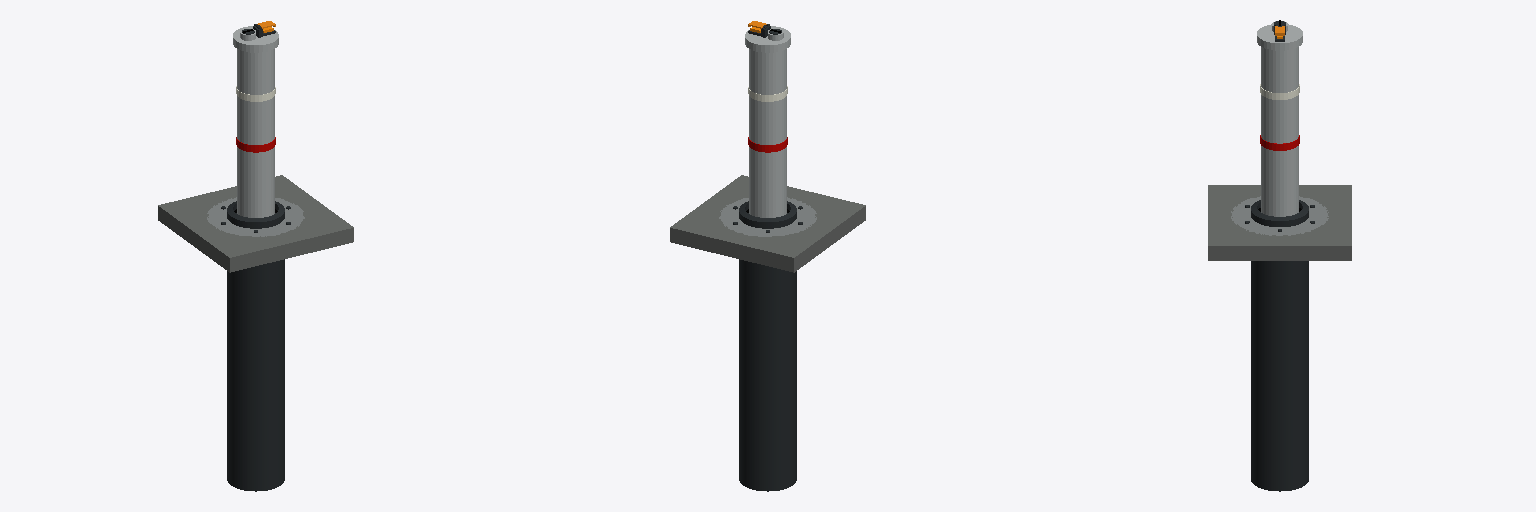
The robot description file, URDF, robot "flush_mount_bollard":
<robot name="flush_mount_bollard">
  <material name="brushed_steel">
    <color rgba="0.7 0.72 0.72 1" />
    </material>
  <material name="dark_steel">
    <color rgba="0.2 0.22 0.23 1" />
    </material>
  <material name="galvanized">
    <color rgba="0.54 0.56 0.56 1" />
    </material>
  <material name="concrete">
    <color rgba="0.45 0.46 0.45 1" />
    </material>
  <material name="rubber">
    <color rgba="0.035 0.035 0.035 1" />
    </material>
  <material name="red_reflector">
    <color rgba="0.8 0.06 0.04 1" />
    </material>
  <material name="white_reflector">
    <color rgba="0.92 0.92 0.86 1" />
    </material>
  <material name="amber_lens">
    <color rgba="1 0.58 0.08 0.72" />
    </material>
  <material name="smoked_amber_cover">
    <color rgba="0.96 0.56 0.12 0.38" />
    </material>
  <material name="black_keyway">
    <color rgba="0.02 0.02 0.018 1" />
    </material>
  <link name="sleeve">
    <inertial>
      <origin xyz="0 0 -0.62" rpy="0 0 0" />
      <mass value="80" />
      <inertia ixx="13.8293" ixy="0" ixz="0" iyy="13.8293" iyz="0" izz="5.12533" />
      </inertial>
    <visual name="pavement_cutaway">
      <geometry>
        <mesh filename="assets/meshes/pavement_cutaway.obj" />
        </geometry>
      <material name="concrete">
        <color rgba="0.45 0.46 0.45 1" />
        </material>
      </visual>
    <visual name="flush_flange">
      <geometry>
        <mesh filename="assets/meshes/flush_flange.obj" />
        </geometry>
      <material name="galvanized">
        <color rgba="0.54 0.56 0.56 1" />
        </material>
      </visual>
    <visual name="sleeve_tube">
      <geometry>
        <mesh filename="assets/meshes/sleeve_tube.obj" />
        </geometry>
      <material name="dark_steel">
        <color rgba="0.2 0.22 0.23 1" />
        </material>
      </visual>
    <visual name="rubber_wiper">
      <geometry>
        <mesh filename="assets/meshes/rubber_wiper.obj" />
        </geometry>
      <material name="rubber">
        <color rgba="0.035 0.035 0.035 1" />
        </material>
      </visual>
    <visual name="flange_bolt_0">
      <origin xyz="0.162 0 0.0035" rpy="0 0 0" />
      <geometry>
        <cylinder radius="0.01" length="0.007" />
        </geometry>
      <material name="dark_steel">
        <color rgba="0.2 0.22 0.23 1" />
        </material>
      </visual>
    <visual name="flange_bolt_1">
      <origin xyz="0.081 0.140296 0.0035" rpy="0 0 0" />
      <geometry>
        <cylinder radius="0.01" length="0.007" />
        </geometry>
      <material name="dark_steel">
        <color rgba="0.2 0.22 0.23 1" />
        </material>
      </visual>
    <visual name="flange_bolt_2">
      <origin xyz="-0.081 0.140296 0.0035" rpy="0 0 0" />
      <geometry>
        <cylinder radius="0.01" length="0.007" />
        </geometry>
      <material name="dark_steel">
        <color rgba="0.2 0.22 0.23 1" />
        </material>
      </visual>
    <visual name="flange_bolt_3">
      <origin xyz="-0.162 1.98393e-17 0.0035" rpy="0 0 0" />
      <geometry>
        <cylinder radius="0.01" length="0.007" />
        </geometry>
      <material name="dark_steel">
        <color rgba="0.2 0.22 0.23 1" />
        </material>
      </visual>
    <visual name="flange_bolt_4">
      <origin xyz="-0.081 -0.140296 0.0035" rpy="0 0 0" />
      <geometry>
        <cylinder radius="0.01" length="0.007" />
        </geometry>
      <material name="dark_steel">
        <color rgba="0.2 0.22 0.23 1" />
        </material>
      </visual>
    <visual name="flange_bolt_5">
      <origin xyz="0.081 -0.140296 0.0035" rpy="0 0 0" />
      <geometry>
        <cylinder radius="0.01" length="0.007" />
        </geometry>
      <material name="dark_steel">
        <color rgba="0.2 0.22 0.23 1" />
        </material>
      </visual>
    <collision name="pavement_cutaway">
      <geometry>
        <mesh filename="assets/meshes/pavement_cutaway.obj" />
        </geometry>
      </collision>
    <collision name="flush_flange">
      <geometry>
        <mesh filename="assets/meshes/flush_flange.obj" />
        </geometry>
      </collision>
    <collision name="sleeve_tube">
      <geometry>
        <mesh filename="assets/meshes/sleeve_tube.obj" />
        </geometry>
      </collision>
    <collision name="rubber_wiper">
      <geometry>
        <mesh filename="assets/meshes/rubber_wiper.obj" />
        </geometry>
      </collision>
    <collision name="flange_bolt_0">
      <origin xyz="0.162 0 0.0035" rpy="0 0 0" />
      <geometry>
        <cylinder radius="0.01" length="0.007" />
        </geometry>
      </collision>
    <collision name="flange_bolt_1">
      <origin xyz="0.081 0.140296 0.0035" rpy="0 0 0" />
      <geometry>
        <cylinder radius="0.01" length="0.007" />
        </geometry>
      </collision>
    <collision name="flange_bolt_2">
      <origin xyz="-0.081 0.140296 0.0035" rpy="0 0 0" />
      <geometry>
        <cylinder radius="0.01" length="0.007" />
        </geometry>
      </collision>
    <collision name="flange_bolt_3">
      <origin xyz="-0.162 1.98393e-17 0.0035" rpy="0 0 0" />
      <geometry>
        <cylinder radius="0.01" length="0.007" />
        </geometry>
      </collision>
    <collision name="flange_bolt_4">
      <origin xyz="-0.081 -0.140296 0.0035" rpy="0 0 0" />
      <geometry>
        <cylinder radius="0.01" length="0.007" />
        </geometry>
      </collision>
    <collision name="flange_bolt_5">
      <origin xyz="0.081 -0.140296 0.0035" rpy="0 0 0" />
      <geometry>
        <cylinder radius="0.01" length="0.007" />
        </geometry>
      </collision>
    </link>
  <link name="post">
    <inertial>
      <origin xyz="0 0 0.27" rpy="0 0 0" />
      <mass value="42" />
      <inertia ixx="5.4866" ixy="0" ixz="0" iyy="5.4866" iyz="0" izz="0.21" />
      </inertial>
    <visual name="post_shaft">
      <origin xyz="0 0 0.26" rpy="0 0 0" />
      <geometry>
        <cylinder radius="0.082" length="1.2" />
        </geometry>
      <material name="brushed_steel">
        <color rgba="0.7 0.72 0.72 1" />
        </material>
      </visual>
    <visual name="lower_stop">
      <origin xyz="0 0 -0.32" rpy="0 0 0" />
      <geometry>
        <cylinder radius="0.094" length="0.04" />
        </geometry>
      <material name="dark_steel">
        <color rgba="0.2 0.22 0.23 1" />
        </material>
      </visual>
    <visual name="crown_plate">
      <origin xyz="0 0 0.8425" rpy="0 0 0" />
      <geometry>
        <cylinder radius="0.1" length="0.035" />
        </geometry>
      <material name="brushed_steel">
        <color rgba="0.7 0.72 0.72 1" />
        </material>
      </visual>
    <visual name="lower_reflector_band">
      <origin xyz="0 0 0.36" rpy="0 0 0" />
      <geometry>
        <cylinder radius="0.0845" length="0.034" />
        </geometry>
      <material name="red_reflector">
        <color rgba="0.8 0.06 0.04 1" />
        </material>
      </visual>
    <visual name="upper_reflector_band">
      <origin xyz="0 0 0.6" rpy="0 0 0" />
      <geometry>
        <cylinder radius="0.0845" length="0.032" />
        </geometry>
      <material name="white_reflector">
        <color rgba="0.92 0.92 0.86 1" />
        </material>
      </visual>
    <visual name="light_base">
      <origin xyz="0.05 0 0.865" rpy="0 0 0" />
      <geometry>
        <box size="0.072 0.042 0.01" />
        </geometry>
      <material name="dark_steel">
        <color rgba="0.2 0.22 0.23 1" />
        </material>
      </visual>
    <visual name="warning_lens">
      <origin xyz="0.054 0 0.876" rpy="0 0 0" />
      <geometry>
        <box size="0.05 0.03 0.012" />
        </geometry>
      <material name="amber_lens">
        <color rgba="1 0.58 0.08 0.72" />
        </material>
      </visual>
    <visual name="hinge_mount">
      <origin xyz="0.008 0 0.876" rpy="0 0 0" />
      <geometry>
        <box size="0.02 0.052 0.04" />
        </geometry>
      <material name="dark_steel">
        <color rgba="0.2 0.22 0.23 1" />
        </material>
      </visual>
    <visual name="fixed_hinge_knuckle_0">
      <origin xyz="0.012 -0.021 0.897" rpy="1.5708 0 0" />
      <geometry>
        <cylinder radius="0.0055" length="0.012" />
        </geometry>
      <material name="dark_steel">
        <color rgba="0.2 0.22 0.23 1" />
        </material>
      </visual>
    <visual name="fixed_hinge_knuckle_1">
      <origin xyz="0.012 0.021 0.897" rpy="1.5708 0 0" />
      <geometry>
        <cylinder radius="0.0055" length="0.012" />
        </geometry>
      <material name="dark_steel">
        <color rgba="0.2 0.22 0.23 1" />
        </material>
      </visual>
    <collision name="post_shaft">
      <origin xyz="0 0 0.26" rpy="0 0 0" />
      <geometry>
        <cylinder radius="0.082" length="1.2" />
        </geometry>
      </collision>
    <collision name="lower_stop">
      <origin xyz="0 0 -0.32" rpy="0 0 0" />
      <geometry>
        <cylinder radius="0.094" length="0.04" />
        </geometry>
      </collision>
    <collision name="crown_plate">
      <origin xyz="0 0 0.8425" rpy="0 0 0" />
      <geometry>
        <cylinder radius="0.1" length="0.035" />
        </geometry>
      </collision>
    <collision name="lower_reflector_band">
      <origin xyz="0 0 0.36" rpy="0 0 0" />
      <geometry>
        <cylinder radius="0.0845" length="0.034" />
        </geometry>
      </collision>
    <collision name="upper_reflector_band">
      <origin xyz="0 0 0.6" rpy="0 0 0" />
      <geometry>
        <cylinder radius="0.0845" length="0.032" />
        </geometry>
      </collision>
    <collision name="light_base">
      <origin xyz="0.05 0 0.865" rpy="0 0 0" />
      <geometry>
        <box size="0.072 0.042 0.01" />
        </geometry>
      </collision>
    <collision name="warning_lens">
      <origin xyz="0.054 0 0.876" rpy="0 0 0" />
      <geometry>
        <box size="0.05 0.03 0.012" />
        </geometry>
      </collision>
    <collision name="hinge_mount">
      <origin xyz="0.008 0 0.876" rpy="0 0 0" />
      <geometry>
        <box size="0.02 0.052 0.04" />
        </geometry>
      </collision>
    <collision name="fixed_hinge_knuckle_0">
      <origin xyz="0.012 -0.021 0.897" rpy="1.5708 0 0" />
      <geometry>
        <cylinder radius="0.0055" length="0.012" />
        </geometry>
      </collision>
    <collision name="fixed_hinge_knuckle_1">
      <origin xyz="0.012 0.021 0.897" rpy="1.5708 0 0" />
      <geometry>
        <cylinder radius="0.0055" length="0.012" />
        </geometry>
      </collision>
    </link>
  <link name="keyed_cap">
    <inertial>
      <origin xyz="0 0 0.014" rpy="0 0 0" />
      <mass value="0.35" />
      <inertia ixx="0.000133438" ixy="0" ixz="0" iyy="0.000133438" iyz="0" izz="0.000214375" />
      </inertial>
    <visual name="cap_body">
      <origin xyz="0 0 0.013" rpy="0 0 0" />
      <geometry>
        <cylinder radius="0.035" length="0.026" />
        </geometry>
      <material name="brushed_steel">
        <color rgba="0.7 0.72 0.72 1" />
        </material>
      </visual>
    <visual name="cap_top_recess">
      <origin xyz="0 0 0.028" rpy="0 0 0" />
      <geometry>
        <cylinder radius="0.027" length="0.004" />
        </geometry>
      <material name="dark_steel">
        <color rgba="0.2 0.22 0.23 1" />
        </material>
      </visual>
    <visual name="key_slot">
      <origin xyz="0 0 0.031" rpy="0 0 0" />
      <geometry>
        <box size="0.05 0.01 0.003" />
        </geometry>
      <material name="black_keyway">
        <color rgba="0.02 0.02 0.018 1" />
        </material>
      </visual>
    <collision name="cap_body">
      <origin xyz="0 0 0.013" rpy="0 0 0" />
      <geometry>
        <cylinder radius="0.035" length="0.026" />
        </geometry>
      </collision>
    <collision name="cap_top_recess">
      <origin xyz="0 0 0.028" rpy="0 0 0" />
      <geometry>
        <cylinder radius="0.027" length="0.004" />
        </geometry>
      </collision>
    <collision name="key_slot">
      <origin xyz="0 0 0.031" rpy="0 0 0" />
      <geometry>
        <box size="0.05 0.01 0.003" />
        </geometry>
      </collision>
    </link>
  <link name="light_cover">
    <inertial>
      <origin xyz="0.038 0 0.003" rpy="0 0 0" />
      <mass value="0.08" />
      <inertia ixx="1.88267e-05" ixy="0" ixz="0" iyy="4.272e-05" iyz="0" izz="5.72267e-05" />
      </inertial>
    <visual name="cover_knuckle">
      <origin xyz="0 0 0" rpy="1.5708 0 0" />
      <geometry>
        <cylinder radius="0.0048" length="0.018" />
        </geometry>
      <material name="dark_steel">
        <color rgba="0.2 0.22 0.23 1" />
        </material>
      </visual>
    <visual name="cover_spine">
      <origin xyz="0.006 0 0.003" rpy="0 0 0" />
      <geometry>
        <box size="0.01 0.018 0.006" />
        </geometry>
      <material name="dark_steel">
        <color rgba="0.2 0.22 0.23 1" />
        </material>
      </visual>
    <visual name="cover_panel">
      <origin xyz="0.039 0 0.003" rpy="0 0 0" />
      <geometry>
        <box size="0.064 0.046 0.006" />
        </geometry>
      <material name="smoked_amber_cover">
        <color rgba="0.96 0.56 0.12 0.38" />
        </material>
      </visual>
    <visual name="front_lip">
      <origin xyz="0.071 0 -0.0005" rpy="0 0 0" />
      <geometry>
        <box size="0.006 0.046 0.013" />
        </geometry>
      <material name="smoked_amber_cover">
        <color rgba="0.96 0.56 0.12 0.38" />
        </material>
      </visual>
    <collision name="cover_knuckle">
      <origin xyz="0 0 0" rpy="1.5708 0 0" />
      <geometry>
        <cylinder radius="0.0048" length="0.018" />
        </geometry>
      </collision>
    <collision name="cover_spine">
      <origin xyz="0.006 0 0.003" rpy="0 0 0" />
      <geometry>
        <box size="0.01 0.018 0.006" />
        </geometry>
      </collision>
    <collision name="cover_panel">
      <origin xyz="0.039 0 0.003" rpy="0 0 0" />
      <geometry>
        <box size="0.064 0.046 0.006" />
        </geometry>
      </collision>
    <collision name="front_lip">
      <origin xyz="0.071 0 -0.0005" rpy="0 0 0" />
      <geometry>
        <box size="0.006 0.046 0.013" />
        </geometry>
      </collision>
    </link>
  <joint name="post_slide" type="prismatic">
    <parent link="sleeve" />
    <child link="post" />
    <axis xyz="0 0 1" />
    <limit effort="500" velocity="0.35" lower="-0.82" upper="0" />
    </joint>
  <joint name="cap_rotation" type="continuous">
    <origin xyz="-0.038 0 0.86" rpy="0 0 0" />
    <parent link="post" />
    <child link="keyed_cap" />
    <axis xyz="0 0 1" />
    <limit effort="3" velocity="6" />
    </joint>
  <joint name="light_cover_hinge" type="revolute">
    <origin xyz="0.012 0 0.897" rpy="0 0 0" />
    <parent link="post" />
    <child link="light_cover" />
    <axis xyz="0 -1 0" />
    <limit effort="0.6" velocity="2" lower="0" upper="1.35" />
    </joint>
  </robot>

--- Render facts (derived) ---
3 views of the same robot in one strip: view 1: azimuth 30°, elevation 25°; view 2: azimuth 150°, elevation 25°; view 3: azimuth 270°, elevation 25° (orthographic).
Model flush_mount_bollard with 4 links and 3 joints (1 revolute, 1 continuous, 1 prismatic), rooted at sleeve, posed every joint at zero.
Links seen in each view (by area): view 1: sleeve, post; view 2: sleeve, post; view 3: sleeve, post.
Link boxes in pixels (x1,y1,x2,y2): sleeve: [158, 175, 353, 491]; post: [233, 24, 278, 217]; sleeve: [670, 175, 865, 491]; post: [745, 24, 790, 217]; sleeve: [1208, 185, 1351, 491]; post: [1257, 24, 1302, 216].
Bounding box of the posed robot: 0.62 × 0.62 × 2.15 m (x, y, z).
4 mesh visuals loaded from 4 distinct referenced files (4 OBJ).
